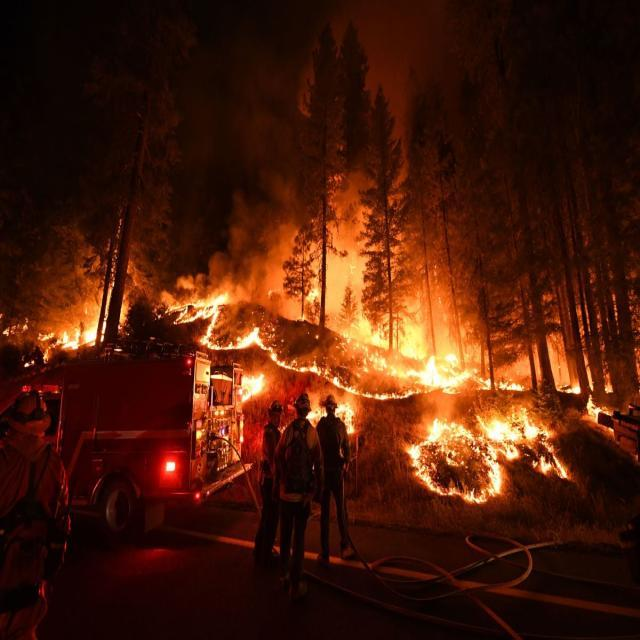Fire: (363, 264, 599, 499), (162, 291, 355, 389), (0, 304, 114, 356)
Smoke: (246, 210, 355, 286)
